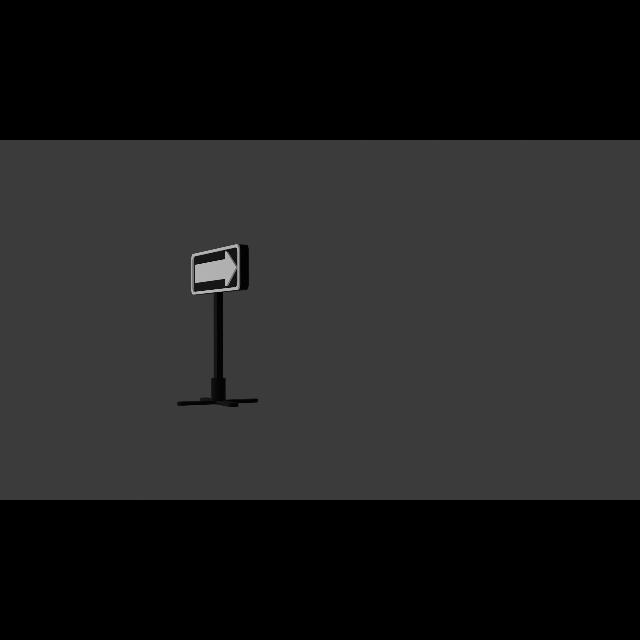sign_oneway_right: (192, 244, 243, 296)
